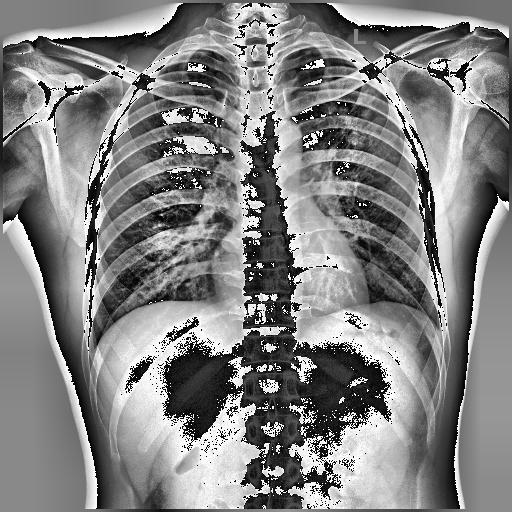13- Pulmonary fibrosis: (326, 89, 388, 176), (316, 84, 384, 147)
6- Infiltration: (314, 88, 390, 177), (326, 89, 388, 176), (316, 84, 384, 147)
7- Lung Opacity: (314, 88, 390, 177)
